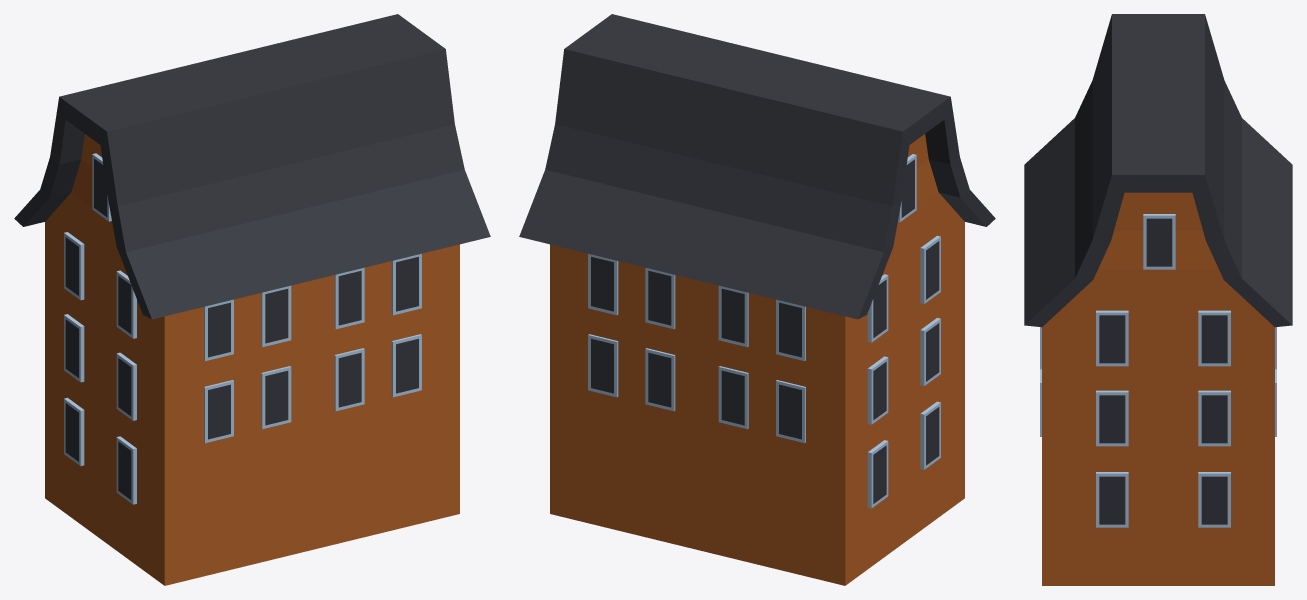
The model's file is Orange_House.fbx.
The picture shows the model from 3 angles, left to right: view 1: azimuth 30°, elevation 25°; view 2: azimuth 150°, elevation 25°; view 3: azimuth 270°, elevation 25°; orthographic projection. The views are drawn at different scales.
Parts seen in each view (by area): view 1: House_Orange; view 2: House_Orange; view 3: House_Orange.
Boxes of the visible parts, bbox=[...] form: House_Orange: bbox=[14, 14, 490, 585]; House_Orange: bbox=[519, 14, 995, 585]; House_Orange: bbox=[1024, 14, 1292, 585].
Bounding box in the file's own units: 974 × 1190 × 686.
